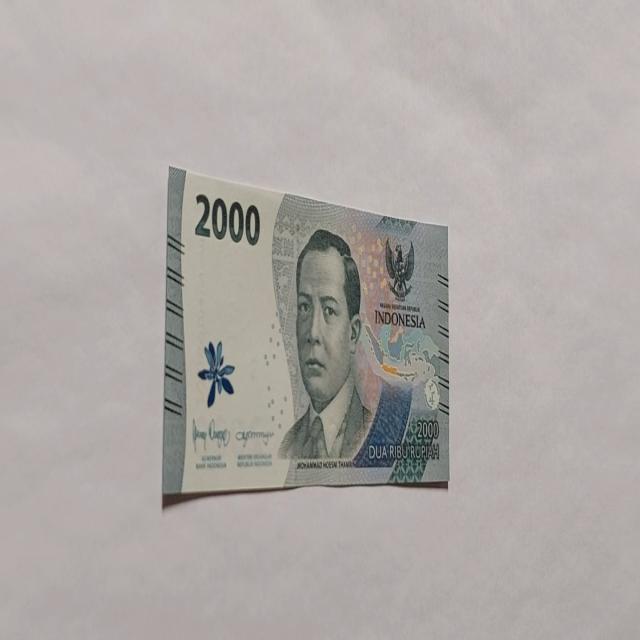dua ribu rupiah: (162, 163, 450, 504), (276, 228, 375, 467)
